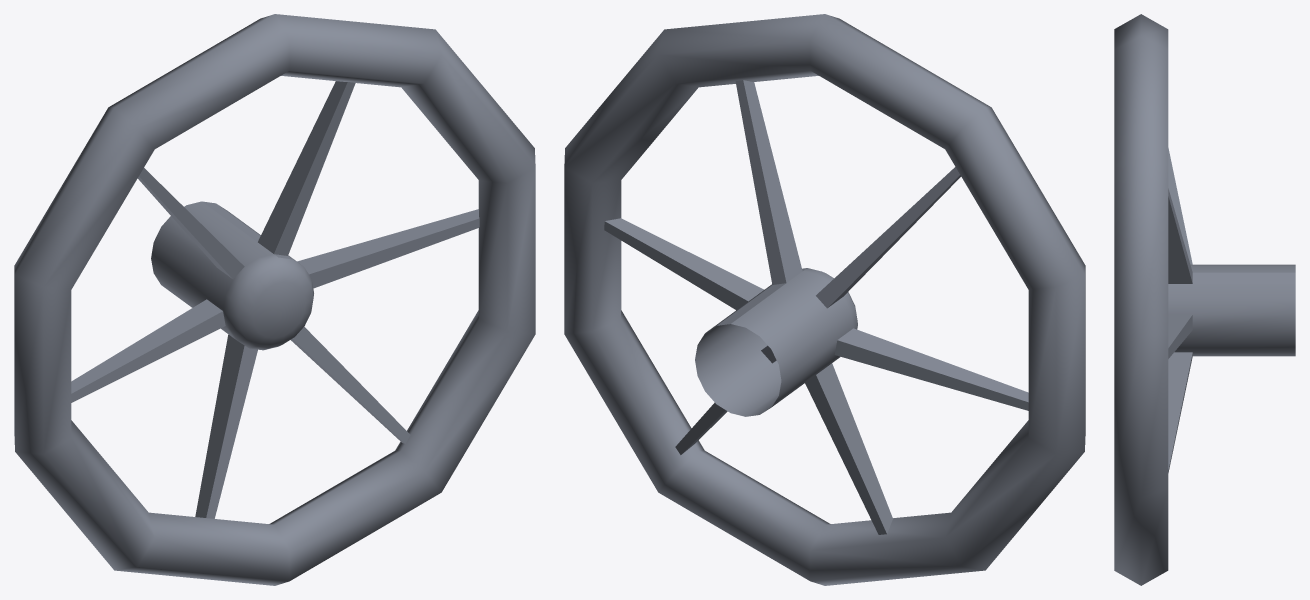
Rendered from Pump@ValveSideRotate.fbx.
3 renders of one model, left to right at view 1: azimuth 30°, elevation 25°; view 2: azimuth 150°, elevation 25°; view 3: azimuth 270°, elevation 25°, orthographic. The views are drawn at different scales.
Parts seen in each view (by area): view 1: IsoValve_side_lp.001; view 2: IsoValve_side_lp.001; view 3: IsoValve_side_lp.001.
Boxes of the visible parts, left/top/right/bottom form: IsoValve_side_lp.001: left=14, top=14, right=535, bottom=585; IsoValve_side_lp.001: left=564, top=14, right=1085, bottom=585; IsoValve_side_lp.001: left=1114, top=14, right=1295, bottom=585.
Size of the model in its own units: 42.39 by 44.58 by 13.9.
